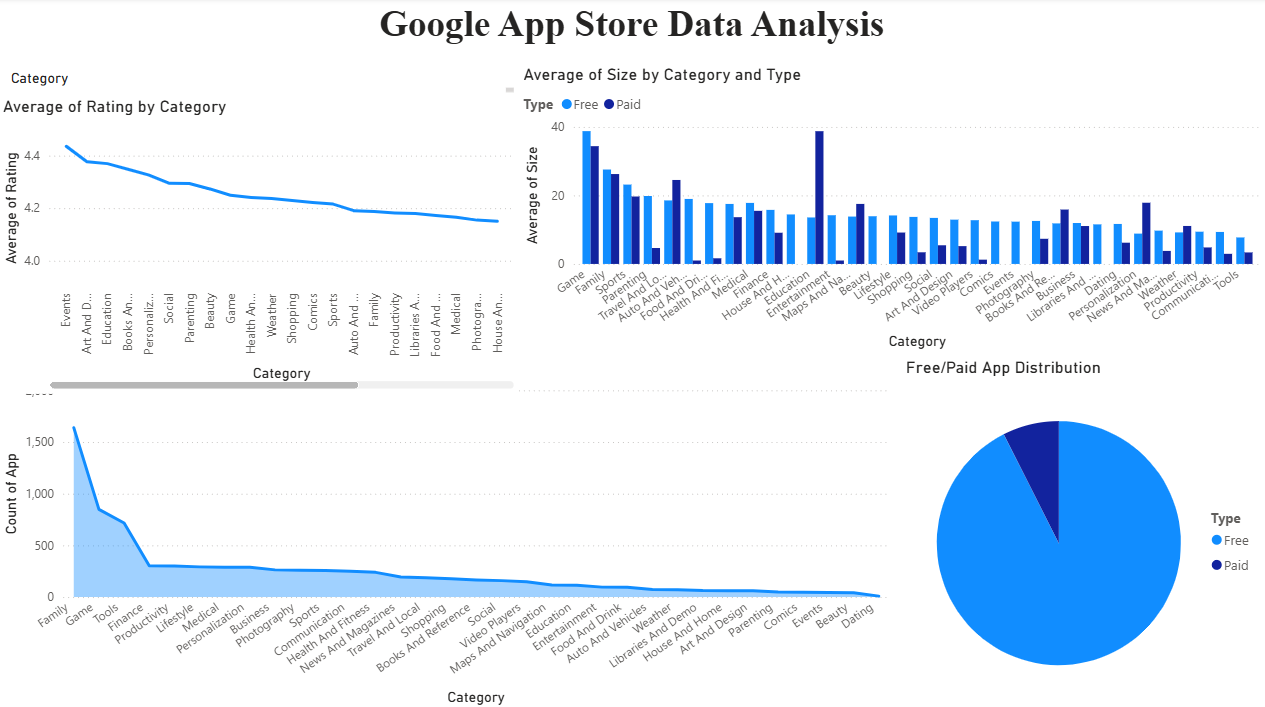

The page's visual inventory and layout, read from the dashboard file:
{"tool":"powerbi","page":{"name":"Page 1","canvas":[1280,720],"ordinal":0},"visuals":[{"type":"pieChart","title":"Free/Paid  App Distribution ","fields":{"Y":["CountNonNull(cleaned_apps.App)"],"Category":["cleaned_apps.Type"]},"box":[911.6,363.4,368,355.8],"z":0},{"type":"stackedAreaChart","title":"Number of Apps by Developer","fields":{"Y":["CountNonNull(cleaned_apps.App)"],"Category":["cleaned_apps.Category"]},"box":[0,364,904,356],"z":1000},{"type":"textbox","box":[0,0,1279.5,56],"z":2000},{"type":"clusteredColumnChart","fields":{"Category":["cleaned_apps.Category"],"Y":["Avg(cleaned_apps.Size)"],"Series":["cleaned_apps.Type"]},"box":[526,68,754,292],"z":3000},{"type":"slicer","fields":{"Values":["cleaned_apps.Category"]},"box":[0,68.1,525.4,33.3],"z":4000},{"type":"lineChart","fields":{"Y":["Avg(cleaned_apps.Rating)"],"Category":["cleaned_apps.Category"]},"box":[0,100.2,525.4,300.5],"z":5000}]}

Visuals, with their boxes in screenshot pixels (x1, y1, x2, y2), scaled from the page's 1280x720 canvas onto the 1265x707 screenshot:
"Free/Paid  App Distribution " pieChart: pyautogui.locateOnScreen(901, 357, 1264, 706)
"Number of Apps by Developer" stackedAreaChart: pyautogui.locateOnScreen(0, 357, 893, 706)
textbox: pyautogui.locateOnScreen(0, 0, 1264, 55)
clusteredColumnChart - cleaned_apps.Category x Avg(cleaned_apps.Size): pyautogui.locateOnScreen(520, 67, 1264, 354)
slicer - cleaned_apps.Category: pyautogui.locateOnScreen(0, 67, 519, 100)
lineChart - Avg(cleaned_apps.Rating) x cleaned_apps.Category: pyautogui.locateOnScreen(0, 98, 519, 393)
